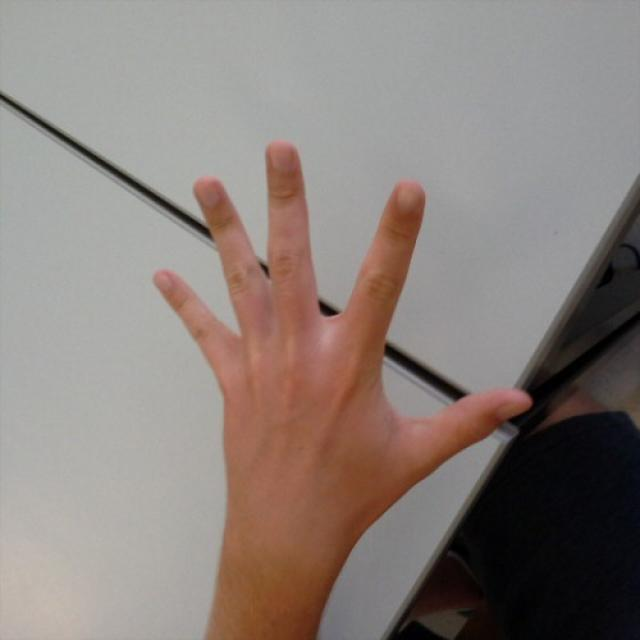paper: (152, 142, 532, 468)
